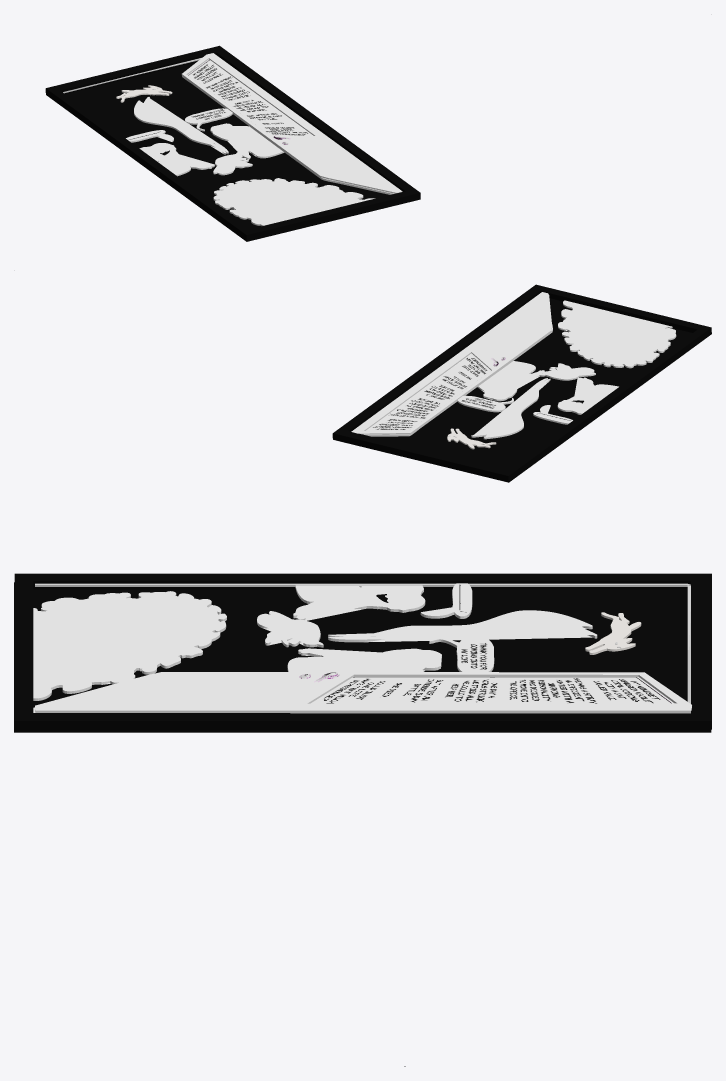
File: Kali.fbx
3 renders of one model, top to bottom at view 1: azimuth 30°, elevation 25°; view 2: azimuth 150°, elevation 25°; view 3: azimuth 270°, elevation 25°, orthographic. The views are drawn at different scales.
Parts seen in each view (by area): view 1: Base, Base.001, Plane.001, Curve.007, Plane, Curve.013, Curve.002, Curve.001, Curve.004, Curve.011, Plane.002; view 2: Base, Base.001, Curve.007, Plane.001, Plane, Curve.013, Curve.002, Curve.001, Curve.004, Curve.011, Plane.002; view 3: Base, Base.001, Plane.001, Curve.007, Plane, Curve.013, Curve.001, Curve.002, Plane.006, Curve.004, Plane.002.
Part boxes in pixels (bbox=[...]): Base: bbox=[46, 62, 420, 241]; Base.001: bbox=[45, 45, 420, 239]; Plane.001: bbox=[181, 53, 402, 193]; Curve.007: bbox=[213, 178, 375, 226]; Plane: bbox=[188, 59, 313, 135]; Curve.013: bbox=[134, 97, 228, 154]; Curve.002: bbox=[210, 123, 284, 159]; Curve.001: bbox=[139, 143, 214, 176]; Curve.004: bbox=[213, 152, 252, 175]; Curve.011: bbox=[182, 59, 394, 194]; Plane.002: bbox=[116, 85, 172, 102]; Base: bbox=[333, 298, 711, 482]; Base.001: bbox=[332, 284, 711, 480]; Curve.007: bbox=[558, 300, 676, 368]; Plane.001: bbox=[351, 292, 551, 434]; Plane: bbox=[365, 353, 491, 430]; Curve.013: bbox=[471, 378, 550, 439]; Curve.002: bbox=[477, 361, 544, 401]; Curve.001: bbox=[557, 377, 618, 414]; Curve.004: bbox=[539, 363, 595, 380]; Curve.011: bbox=[364, 294, 552, 436]; Plane.002: bbox=[447, 428, 496, 449]; Base: bbox=[14, 582, 711, 732]; Base.001: bbox=[14, 573, 711, 729]; Plane.001: bbox=[35, 672, 691, 712]; Curve.007: bbox=[33, 591, 226, 700]; Plane: bbox=[310, 677, 671, 703]; Curve.013: bbox=[328, 610, 597, 642]; Curve.001: bbox=[293, 585, 425, 620]; Curve.002: bbox=[287, 648, 441, 671]; Plane.006: bbox=[35, 583, 690, 703]; Curve.004: bbox=[257, 611, 323, 647]; Plane.002: bbox=[585, 612, 641, 654].
Size of the model in its own units: 81.18 by 1.37 by 44.04.
24 materials, 7 textured.
